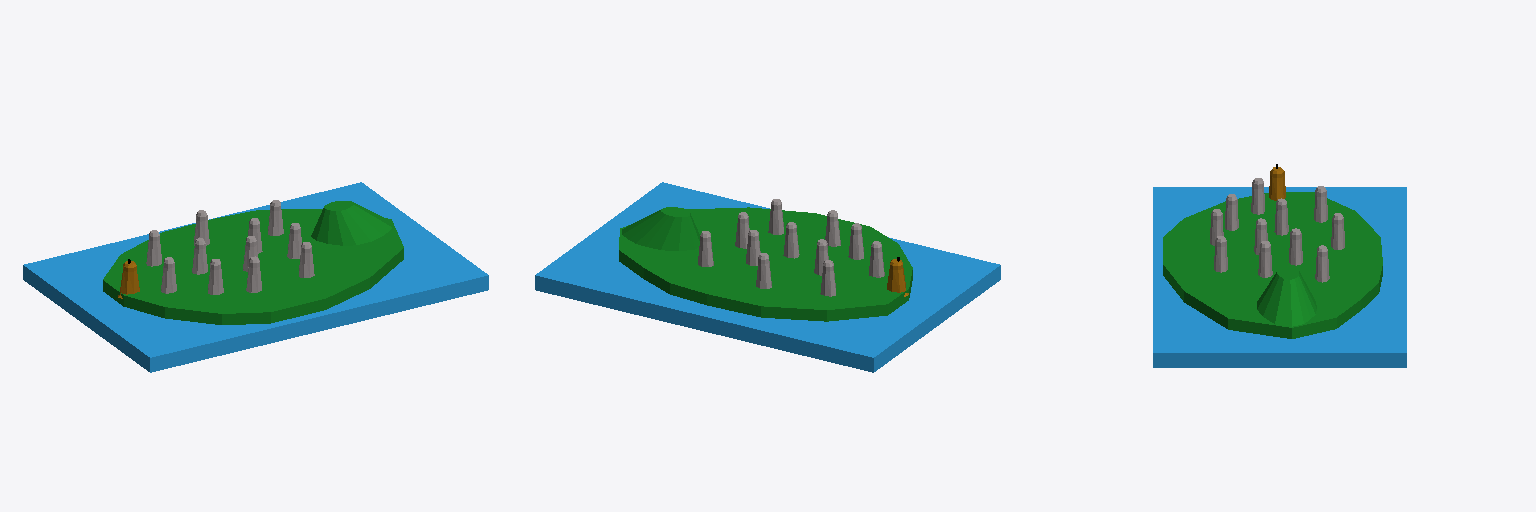
Rendered from rockpillarexportcolour.obj.
The picture shows the model from 3 angles: view 1: azimuth 30°, elevation 25°; view 2: azimuth 150°, elevation 25°; view 3: azimuth 270°, elevation 25°; orthographic projection.
Parts seen in each view (by area): view 1: Cube, New Game Object, New Game Object (1), Cylinder; view 2: Cube, New Game Object, New Game Object (1); view 3: Cube, New Game Object, New Game Object (1).
Boxes of the visible parts, box(x1,y1,x2,y2) form: Cube: box(23, 182, 488, 372); New Game Object: box(103, 209, 403, 324); New Game Object (1): box(311, 201, 392, 245); Cylinder: box(118, 261, 139, 298); Cube: box(535, 182, 1000, 372); New Game Object: box(619, 207, 912, 321); New Game Object (1): box(622, 207, 699, 250); Cube: box(1153, 164, 1406, 367); New Game Object: box(1163, 192, 1382, 338); New Game Object (1): box(1257, 266, 1316, 326).
Bounding box in the file's own units: 40.28 × 6.59 × 26.2.